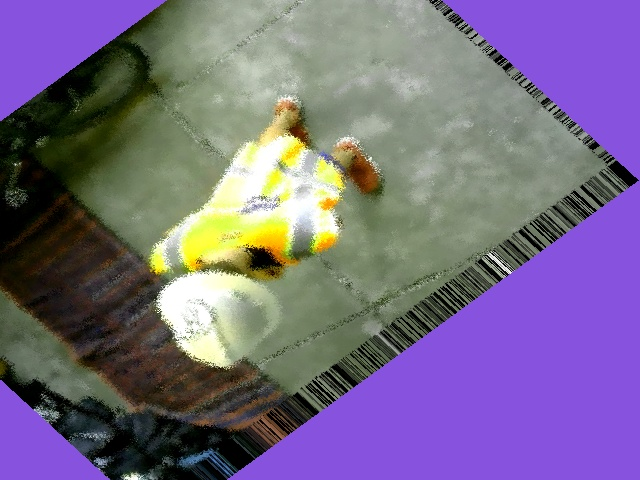eight: (160, 296, 223, 347)
